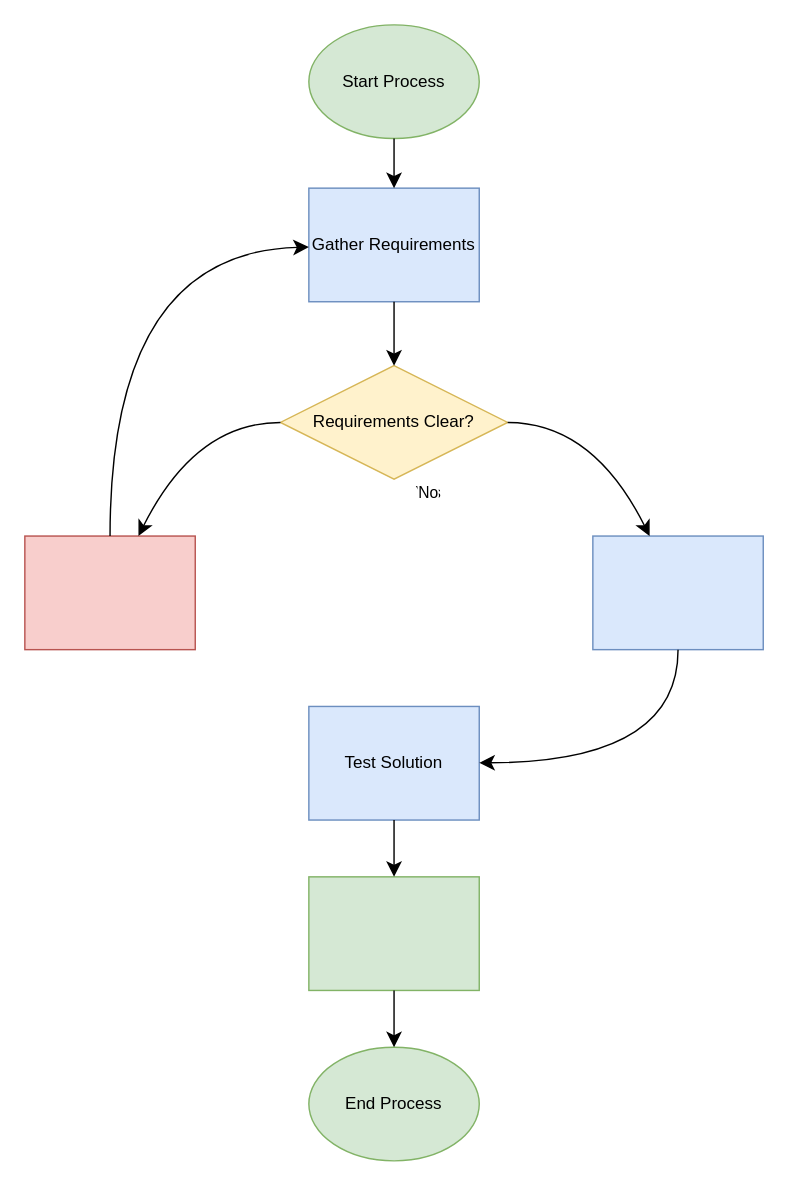
Some shapes in this 788 by 1186 pixel diagram are drawn without their labels. Each missing label, with the centre of its shape:
"Deploy Solution" belongs at point (393, 932).
"Develop Solution" belongs at point (677, 592).
"Refine Requirements" belongs at point (109, 592).
